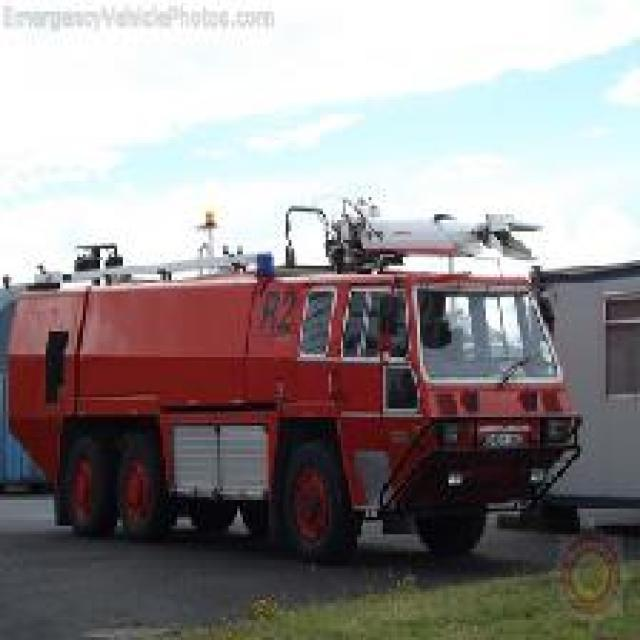emergency: (0, 197, 586, 563)
